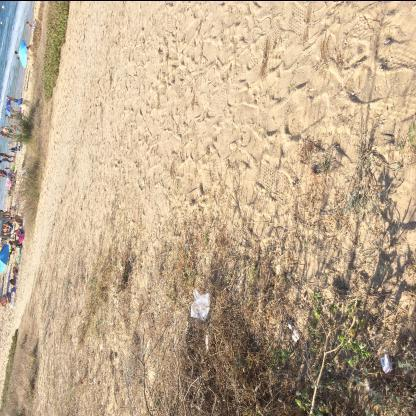plastik: (191, 289, 211, 321)
